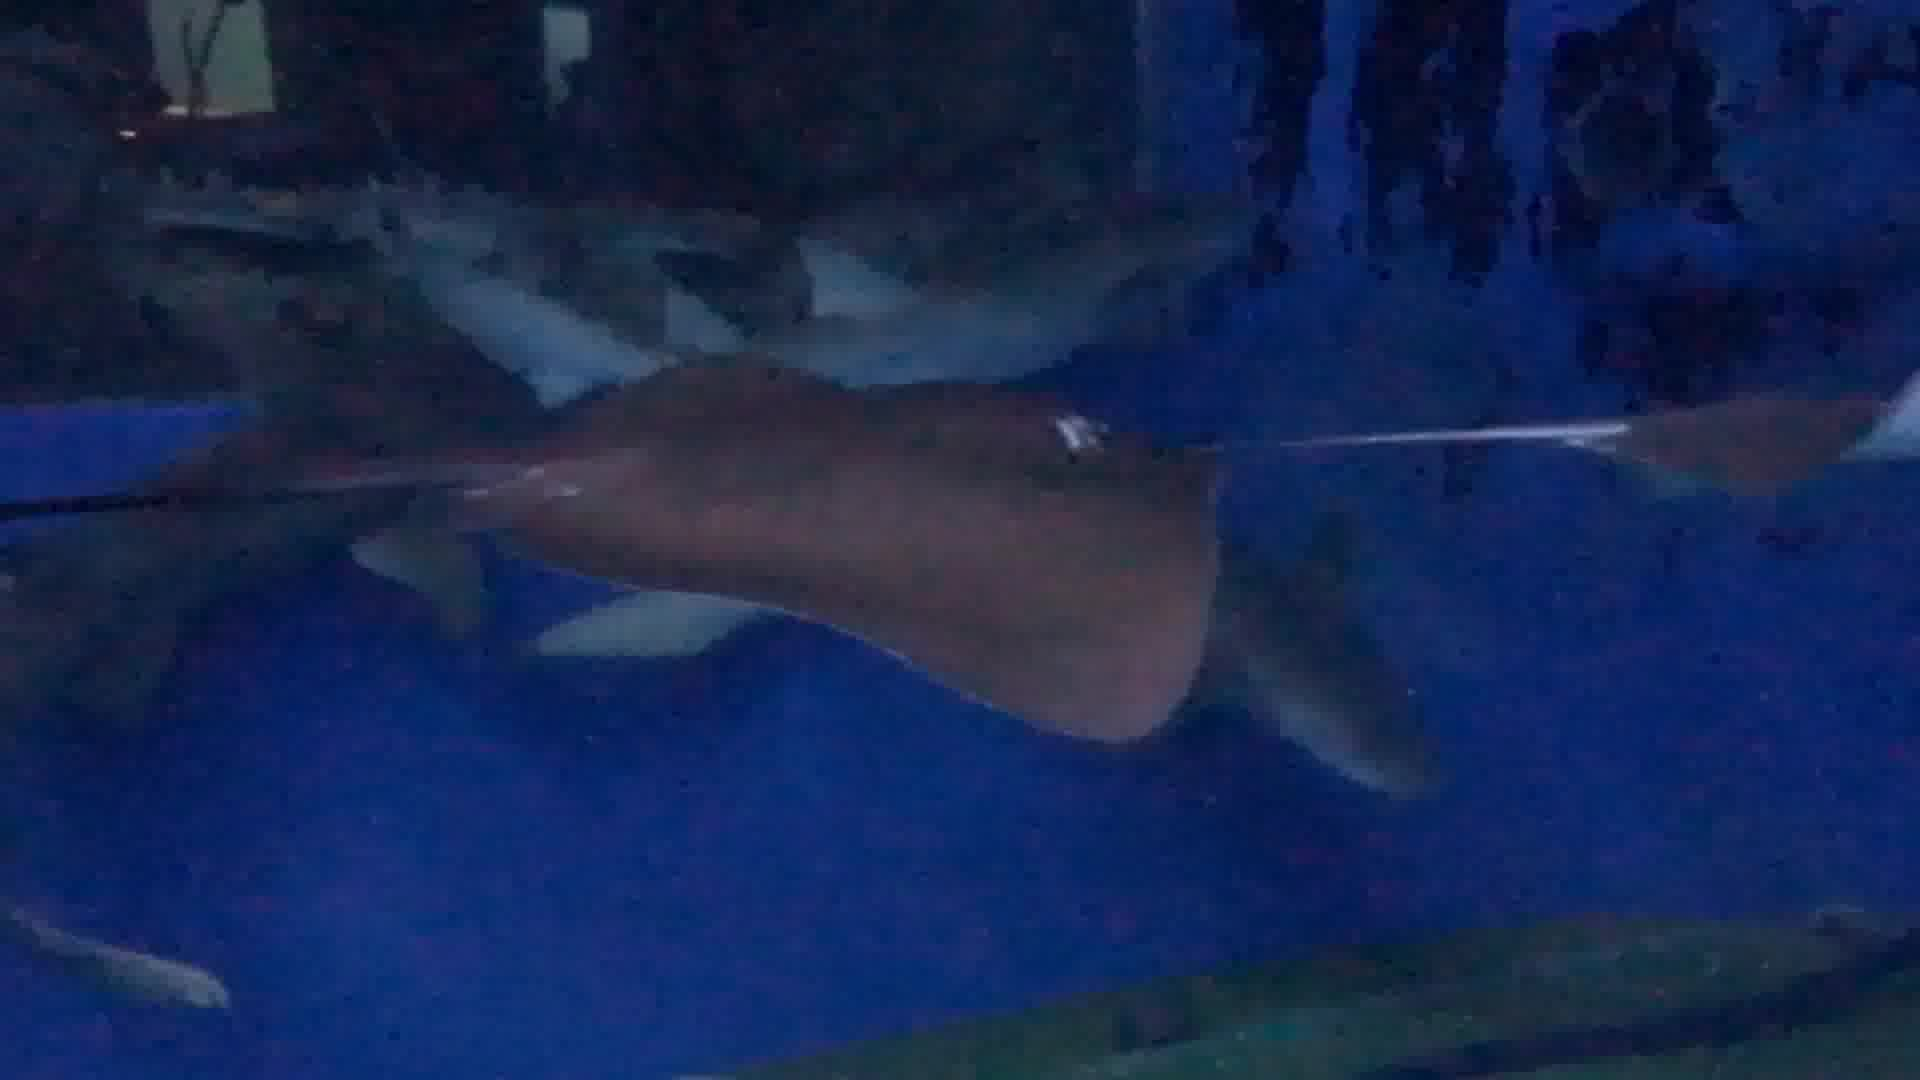Nebrius ferrugineus: (665, 166, 1352, 384)
